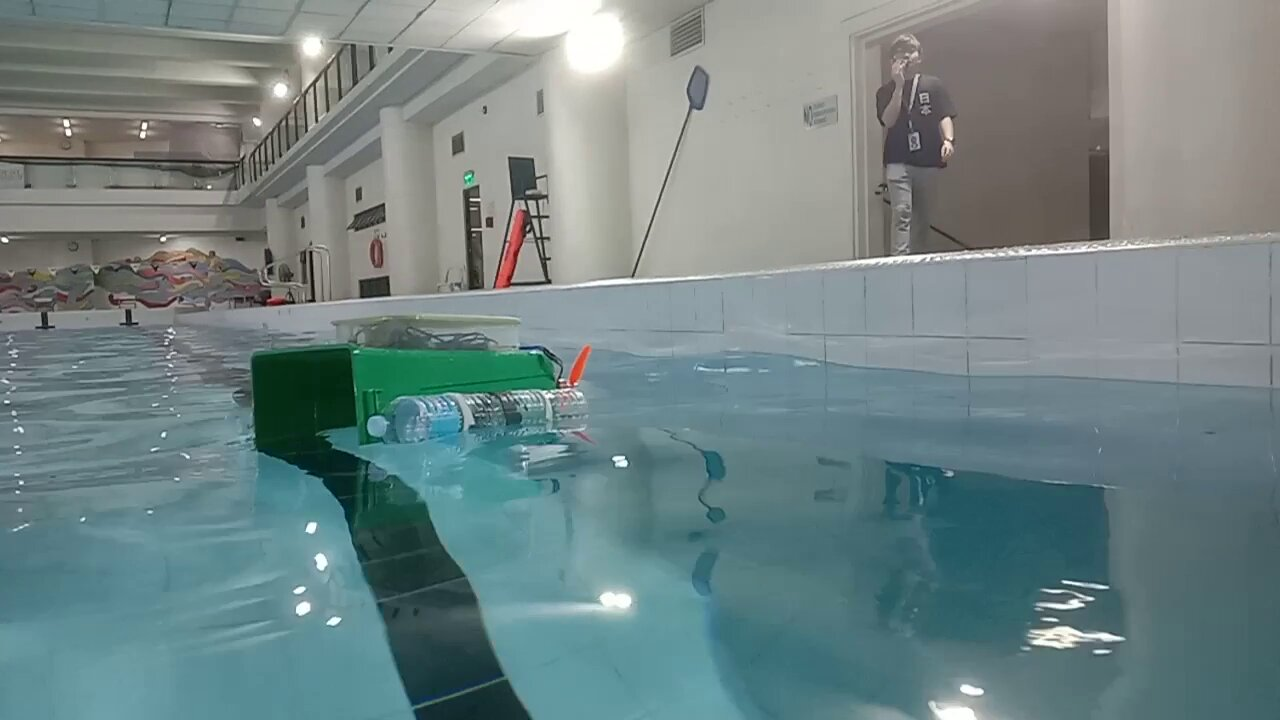drone: (251, 316, 593, 445)
